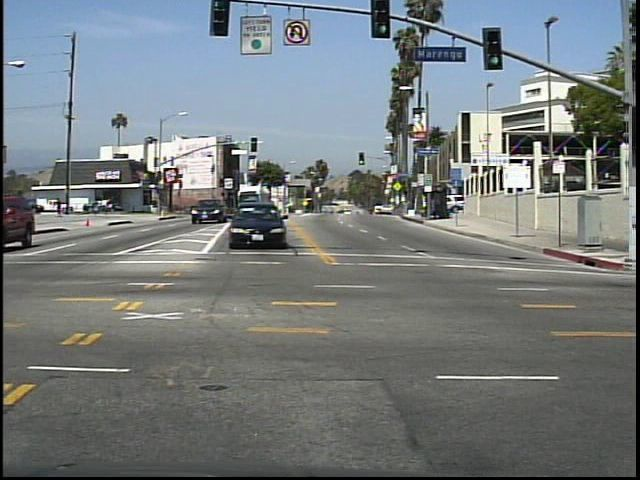person: (55, 195, 66, 220)
